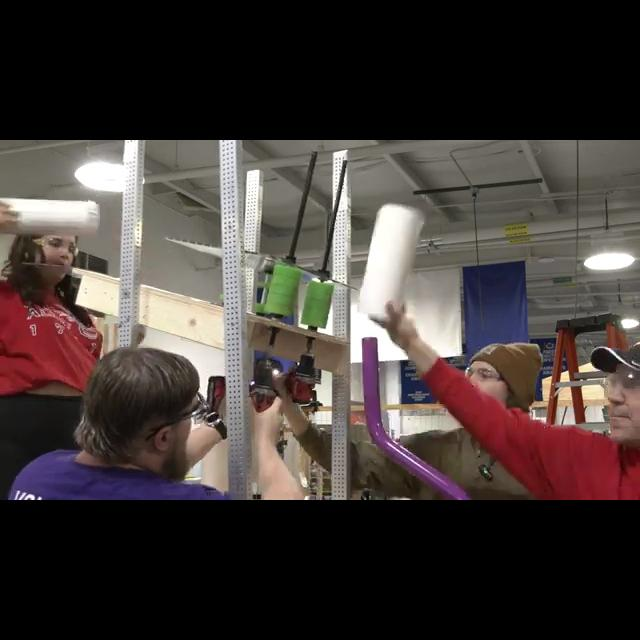CORAL: (356, 200, 424, 320), (0, 196, 100, 234)
